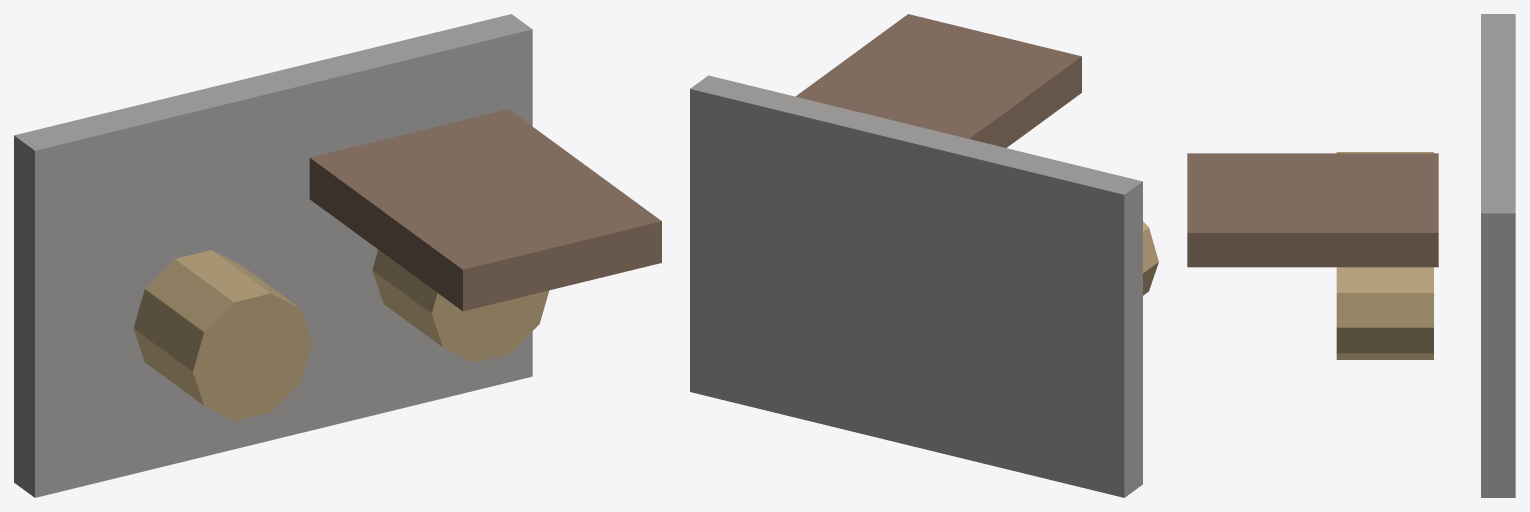
3 views of the same model, side by side, from view 1: azimuth 30°, elevation 25°; view 2: azimuth 150°, elevation 25°; view 3: azimuth 270°, elevation 25° (orthographic). The views are drawn at different scales.
Parts seen in each view (by area): view 1: H23_part_0, H23_part_3, H23_part_1, H23_part_2; view 2: H23_part_0, H23_part_3, H23_part_1; view 3: H23_part_3, H23_part_0, H23_part_2.
Boxes of the visible parts, x1,y1,x2,y2 form: H23_part_0: (14, 14, 532, 497); H23_part_3: (309, 109, 661, 311); H23_part_1: (133, 250, 312, 421); H23_part_2: (372, 250, 549, 362); H23_part_0: (690, 75, 1142, 497); H23_part_3: (796, 14, 1081, 147); H23_part_1: (1143, 221, 1158, 295); H23_part_3: (1187, 153, 1438, 267); H23_part_0: (1481, 14, 1515, 497); H23_part_2: (1336, 267, 1433, 359).
Bounding box in the file's own units: 1.5 × 1 × 1.04.
